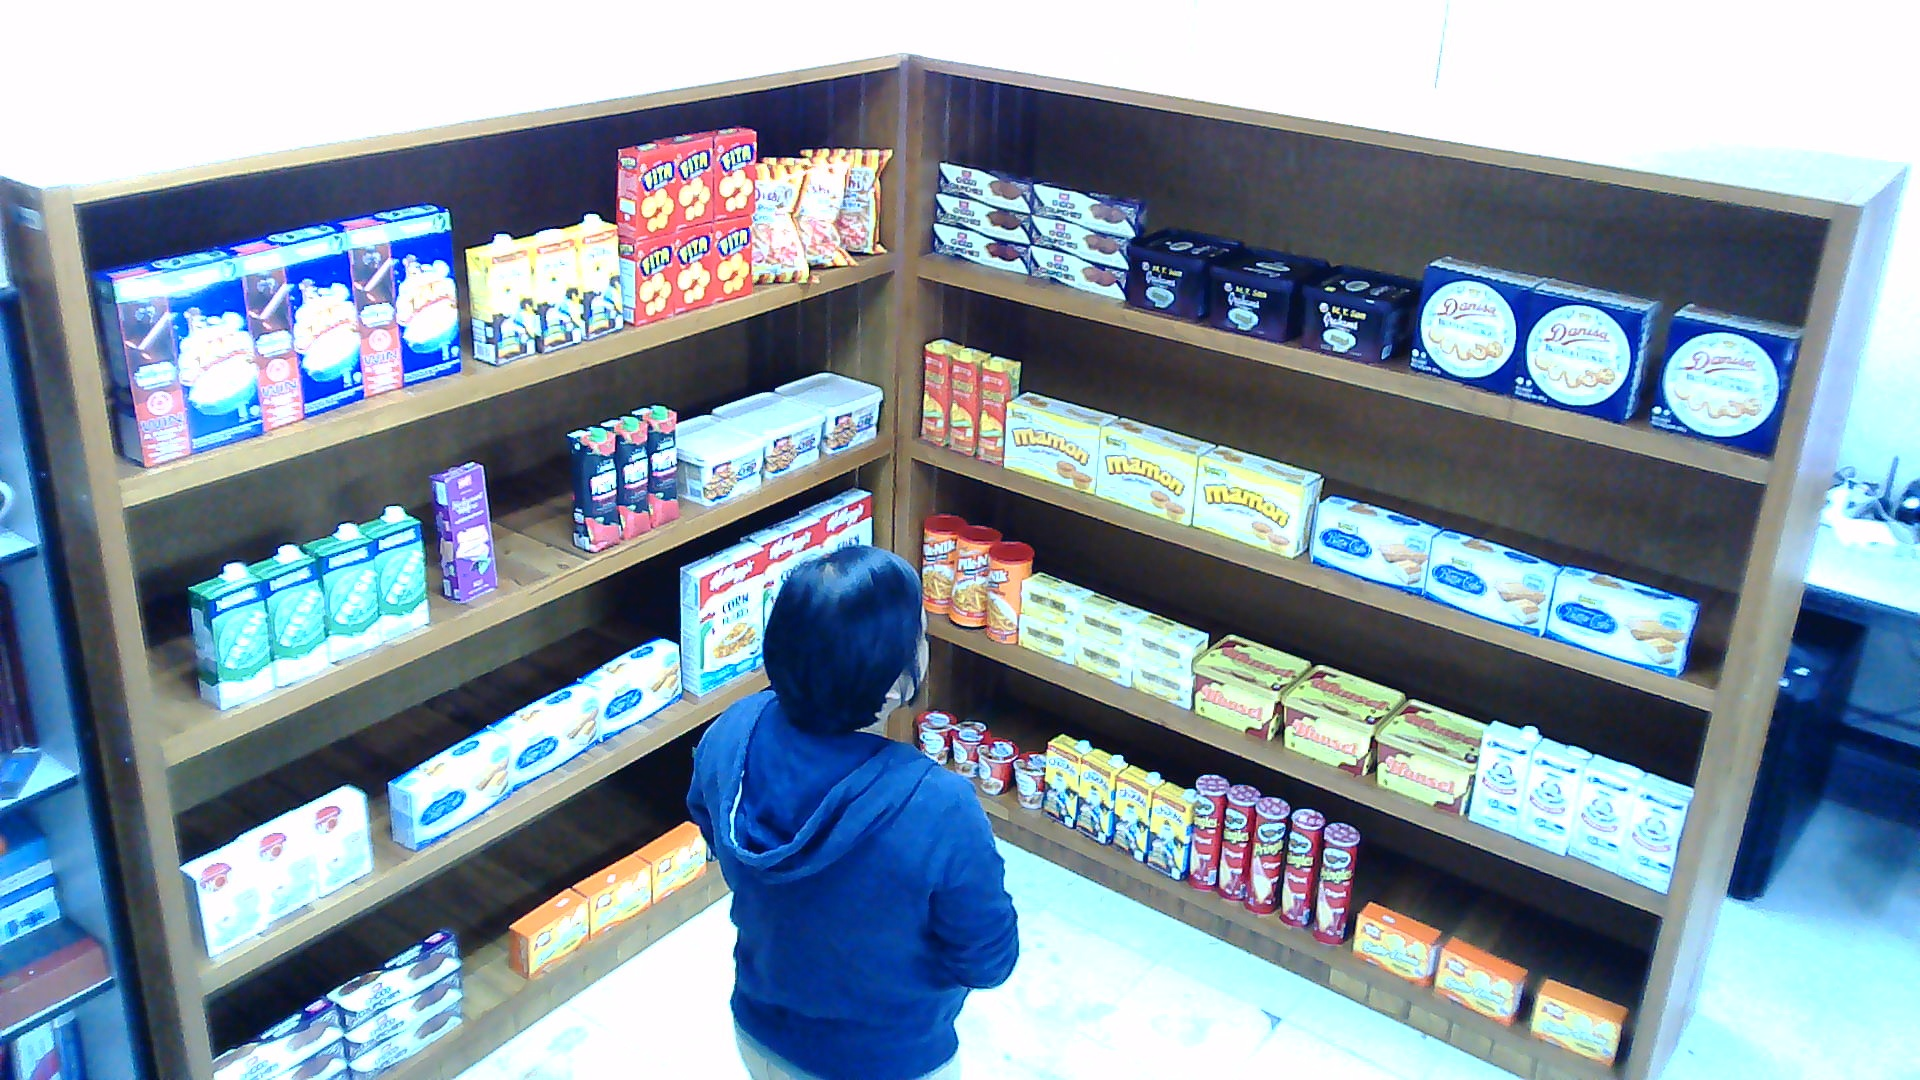Bear brand: (1617, 771, 1692, 893), (1569, 753, 1644, 872), (1515, 737, 1590, 854), (1467, 719, 1539, 834)
Buttercake: (1545, 567, 1695, 675), (387, 727, 513, 851), (1422, 529, 1563, 637), (1310, 495, 1439, 596), (489, 679, 600, 792), (579, 634, 681, 740)
Butterlicious: (1529, 979, 1628, 1067), (1434, 936, 1527, 1026), (1350, 900, 1440, 988), (510, 889, 588, 979), (573, 852, 648, 935), (633, 818, 705, 899)
Camomille: (1133, 611, 1208, 674), (1074, 591, 1146, 650), (1020, 572, 1089, 626), (1131, 657, 1191, 709), (1071, 634, 1131, 686), (1017, 612, 1071, 661)
Choco Crunchies: (323, 927, 458, 1033), (345, 970, 465, 1062), (212, 996, 341, 1077), (348, 1004, 462, 1078), (1035, 180, 1146, 236), (938, 160, 1043, 212), (1029, 245, 1128, 299), (1032, 216, 1128, 268), (933, 193, 1029, 242), (933, 225, 1029, 272), (269, 1038, 344, 1078), (327, 1064, 351, 1078)
Chocolate Chips: (711, 391, 822, 479), (774, 371, 882, 454), (678, 414, 762, 506)
Chuckie: (464, 233, 533, 366), (522, 227, 582, 353), (566, 214, 623, 340), (1110, 764, 1164, 861), (1146, 780, 1194, 879), (1077, 746, 1125, 843), (1044, 734, 1092, 828)
Danisa: (1647, 301, 1803, 454), (1511, 277, 1658, 423), (1406, 254, 1547, 396)
Fita: (614, 139, 671, 238), (698, 126, 755, 218), (657, 133, 711, 227), (618, 232, 672, 326), (672, 223, 714, 313), (713, 216, 752, 302)
Fresh Milk: (189, 563, 273, 711), (303, 522, 381, 662), (249, 544, 327, 684), (360, 504, 429, 641)
Grahams: (1302, 263, 1419, 364), (1209, 245, 1329, 342), (1128, 224, 1242, 321)
Hansel: (1281, 664, 1404, 774), (1373, 699, 1484, 814), (1190, 634, 1307, 740)
Head: (755, 533, 938, 733)
Honey Stars: (90, 245, 264, 468), (215, 220, 362, 431), (330, 200, 462, 396)
Kellogg Corn Flakes: (680, 540, 761, 695), (743, 510, 818, 627), (807, 486, 870, 556)
Kimchi Noodles: (977, 735, 1016, 794), (951, 722, 990, 776), (915, 711, 954, 763), (1014, 752, 1044, 808)
Locally Mango: (974, 353, 1019, 466), (918, 338, 963, 446), (948, 346, 990, 454)
Mamon: (1191, 445, 1323, 558), (1094, 416, 1211, 524), (1002, 391, 1116, 492)
Oishi Prawn: (759, 152, 858, 265), (798, 146, 891, 252), (753, 162, 819, 284)
Pik-nik: (947, 524, 998, 627), (984, 540, 1032, 643), (920, 513, 965, 614)
Pringles: (1311, 821, 1359, 945), (1278, 808, 1323, 930), (1244, 796, 1289, 913), (1215, 783, 1257, 900), (1187, 773, 1226, 890)
Super Fruits: (567, 425, 618, 553), (600, 414, 648, 540), (630, 403, 678, 529)
Wafer: (428, 461, 497, 603)
iHop: (180, 839, 261, 956), (237, 812, 315, 927), (294, 783, 372, 893)
